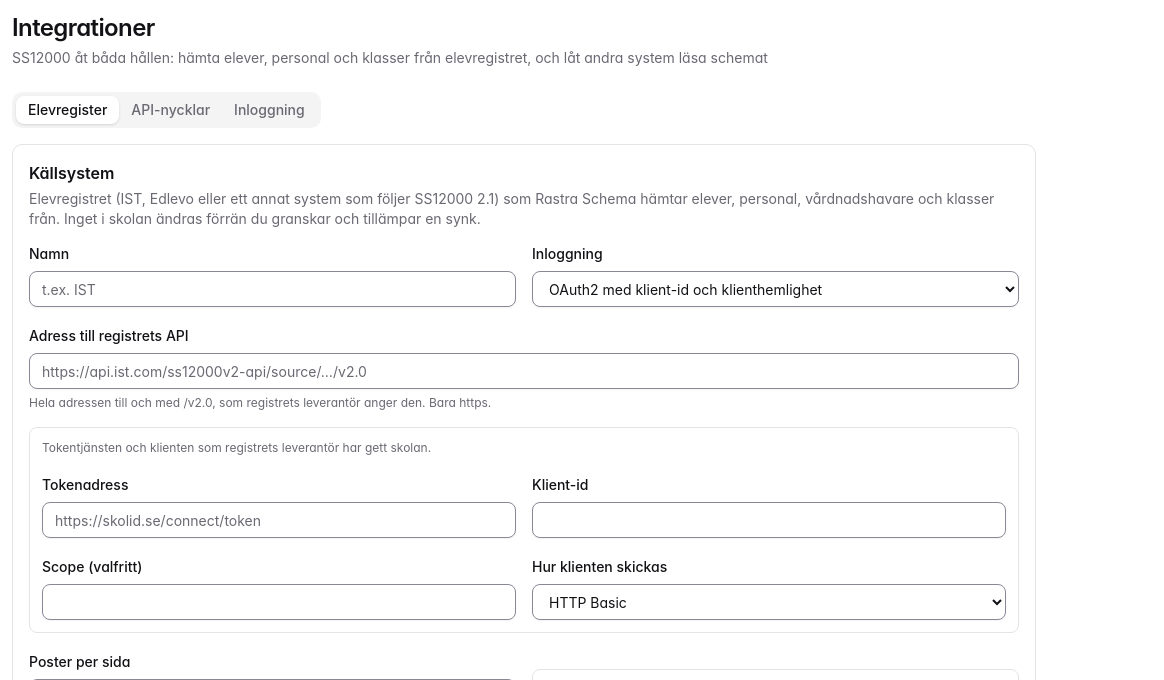
Test case: /admin/integrations — the register › says nothing about the token address and client id until the admin types in one of them
Expected: the field labelled "Namn" is shown, [29, 271, 516, 307]
Expected: the text "Tokenadress och klient-id anges tillsammans." is not shown
Type "https://skolid.example/connect/token" into the field labelled "Tokenadress".
click(279, 520); type("https://skolid.example/connect/token")  # box [42, 502, 516, 538]
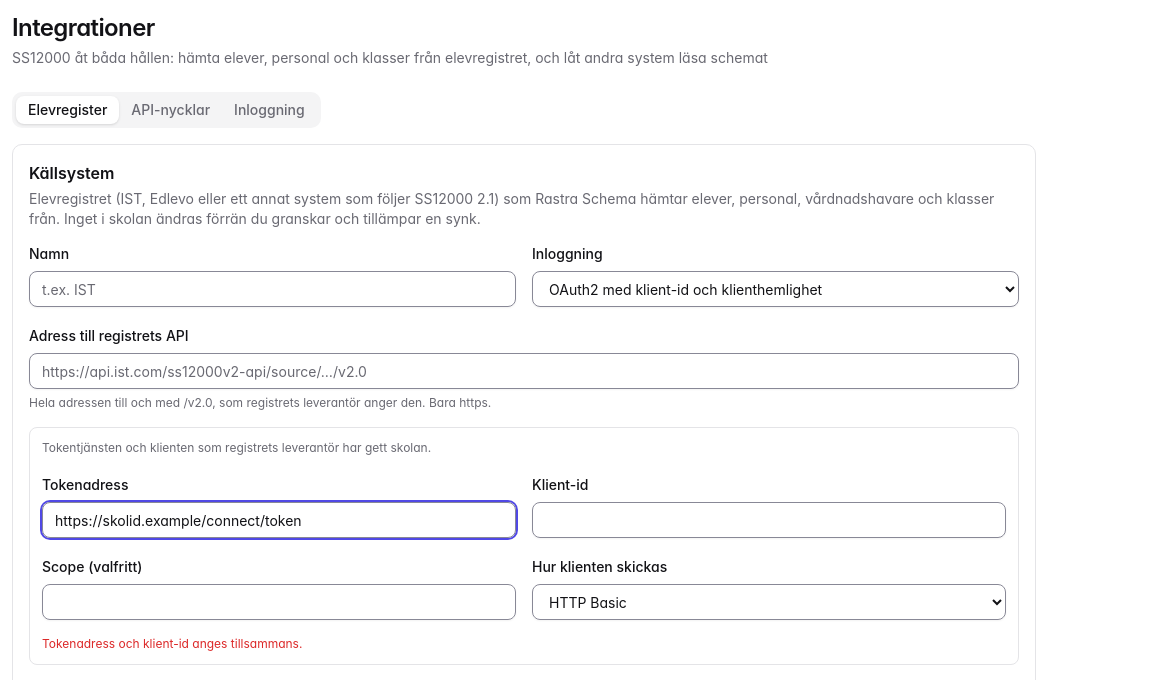
Result: the text "Tokenadress och klient-id anges tillsammans." is shown at [42, 636, 302, 651]
Type "schemapro" into the field labelled "Klient-id".
click(769, 520); type("schemapro")  # box [532, 502, 1006, 538]
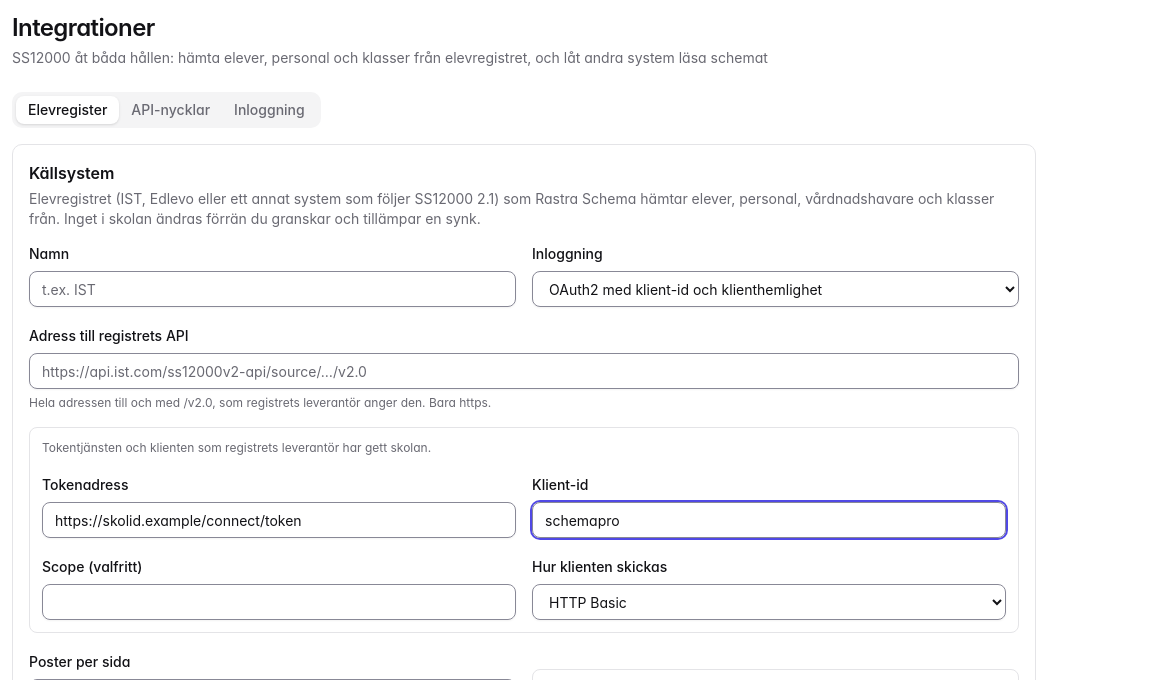
Result: the text "Tokenadress och klient-id anges tillsammans." is gone
